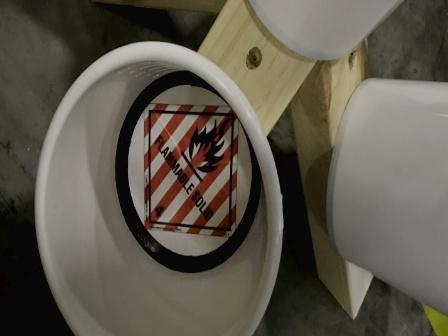flammable-solid: (140, 102, 239, 236)
